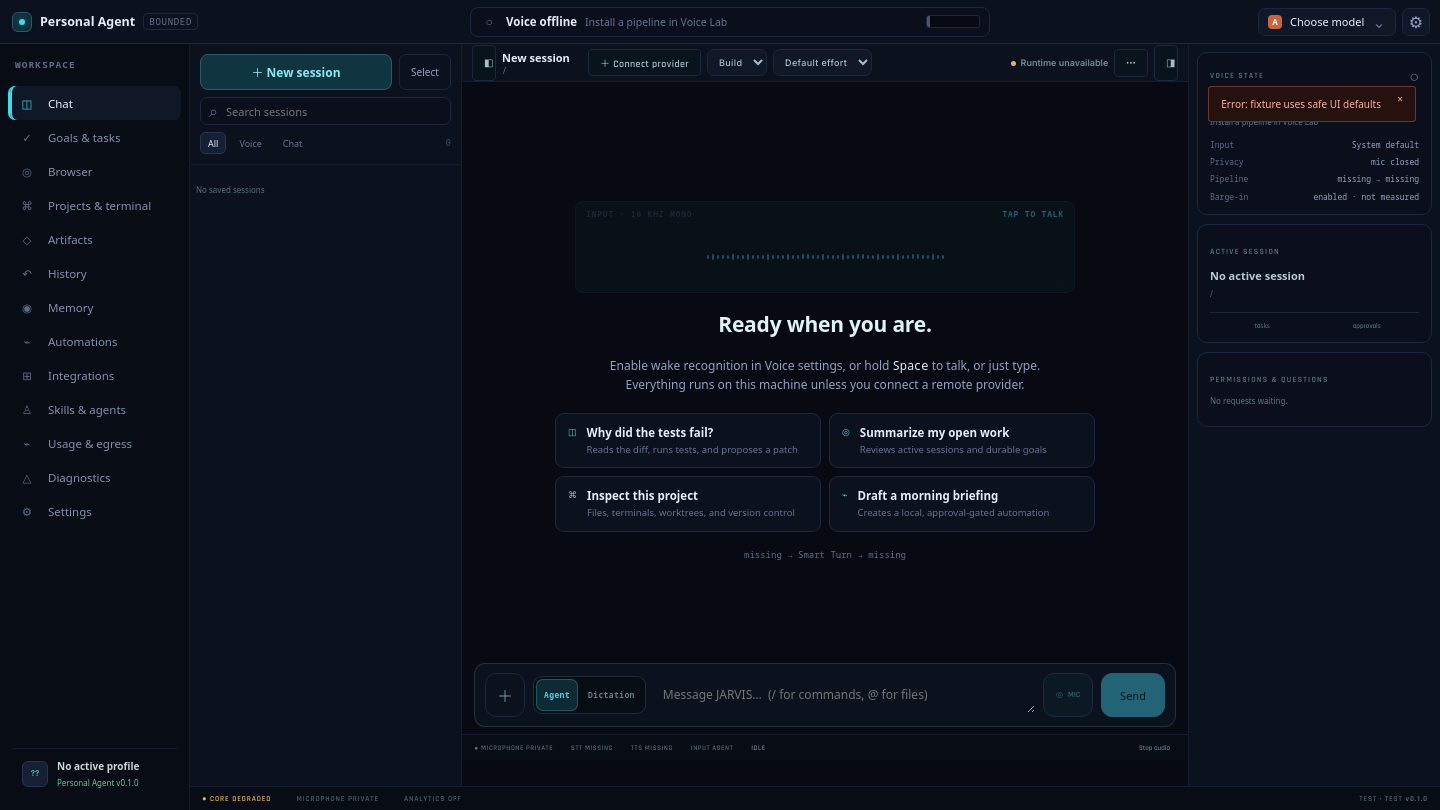
Scenario: desktop workspace › renders a streamed fixture turn as collapsible tool cards without inventing arguments
The width and height of the screenshot is (1440, 810).
Type "Search the repo" into the text box labelled "Message JARVIS".
click(844, 695); type("Search the repo")  # box [654, 678, 1035, 712]
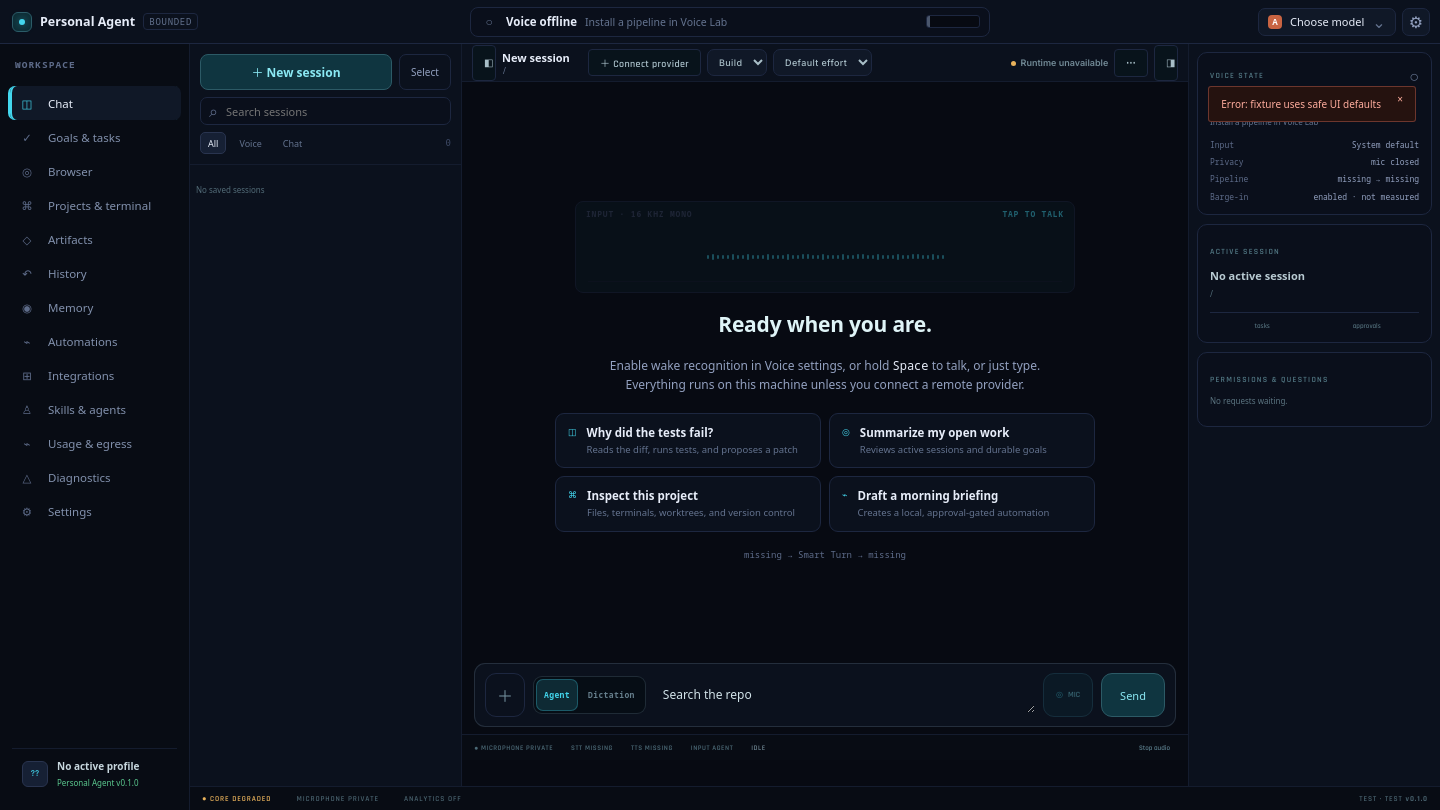
Click the button named "↑".
click(1133, 695)  # box [1101, 673, 1165, 717]
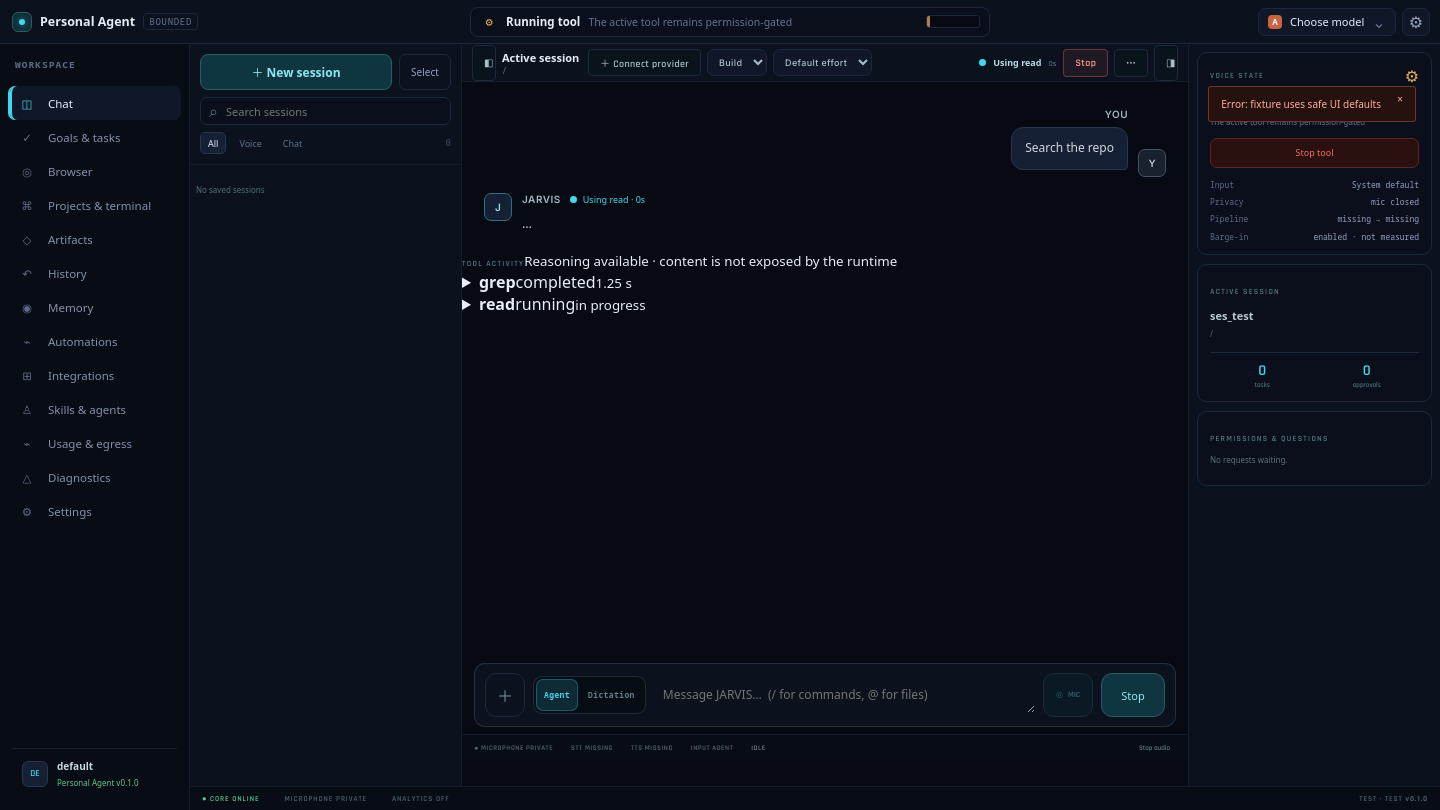
Check: the text "grep" is shown, box [479, 271, 516, 293]
Check: the text "read" is shown, box [479, 293, 515, 315]
Check: the text "completed" is shown, box [516, 271, 596, 293]
